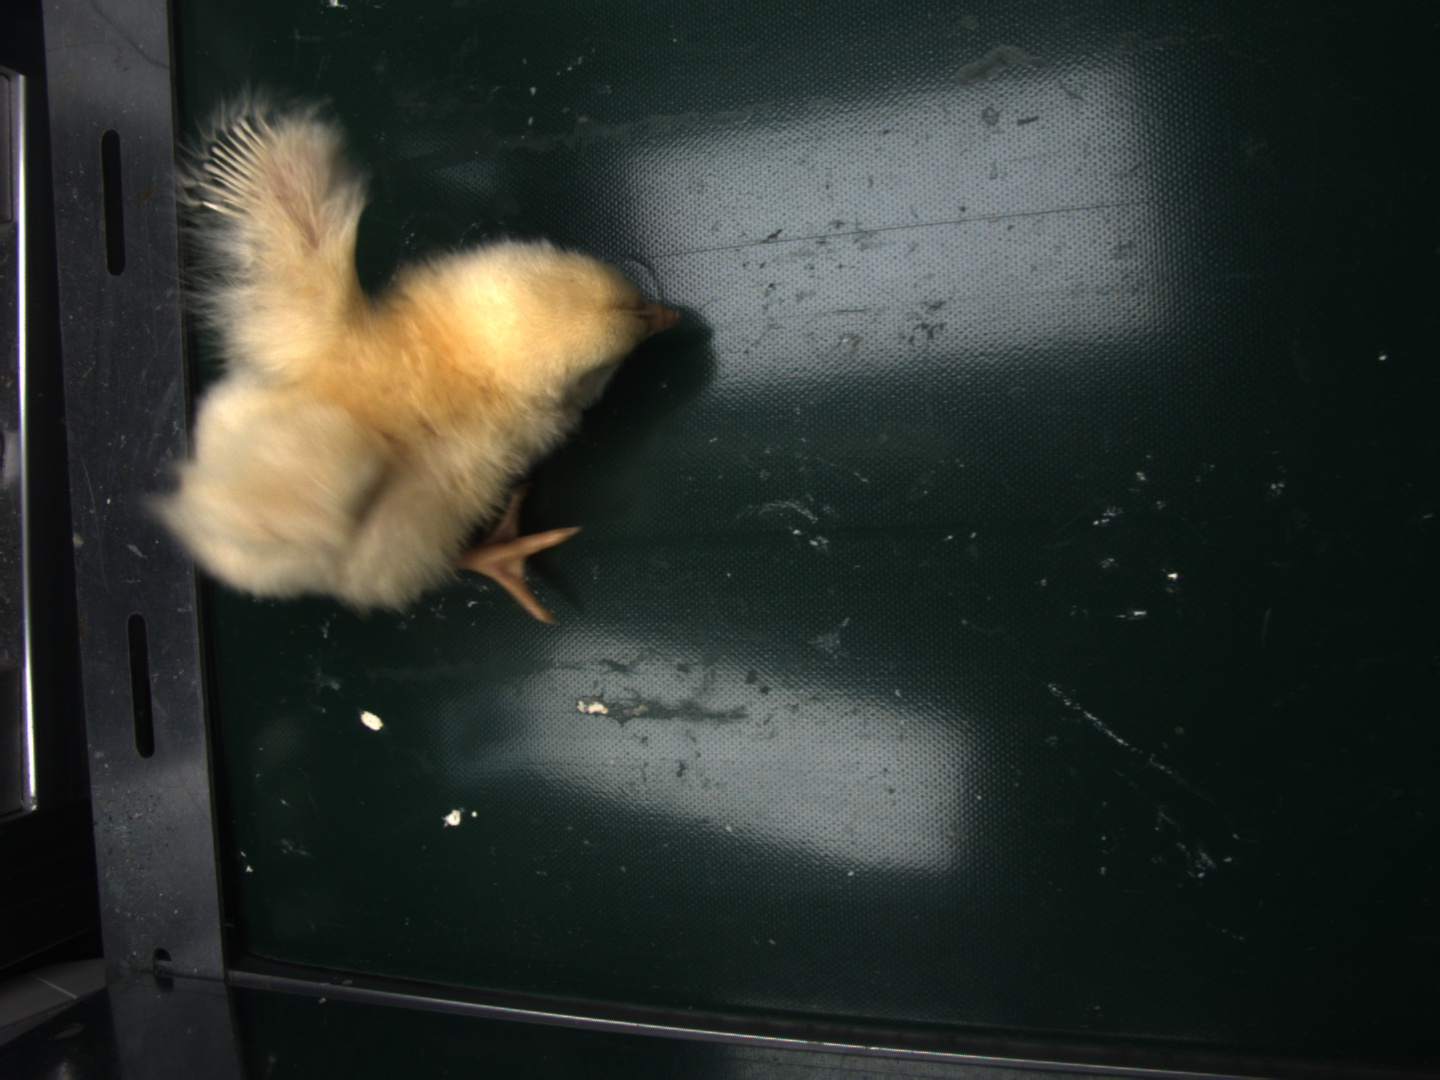male: (200, 118, 283, 216)
